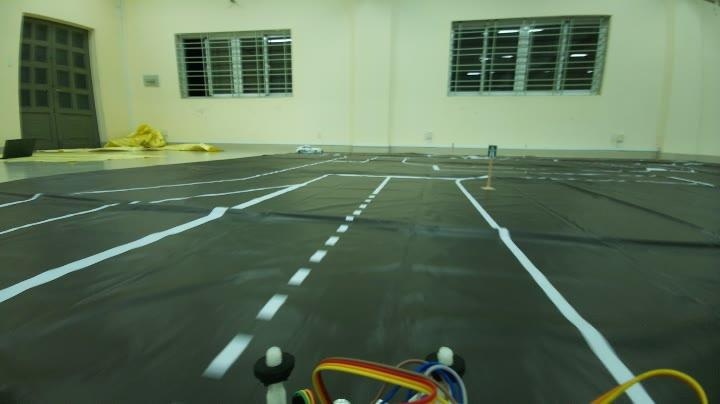highway_entry: (486, 140, 500, 164)
